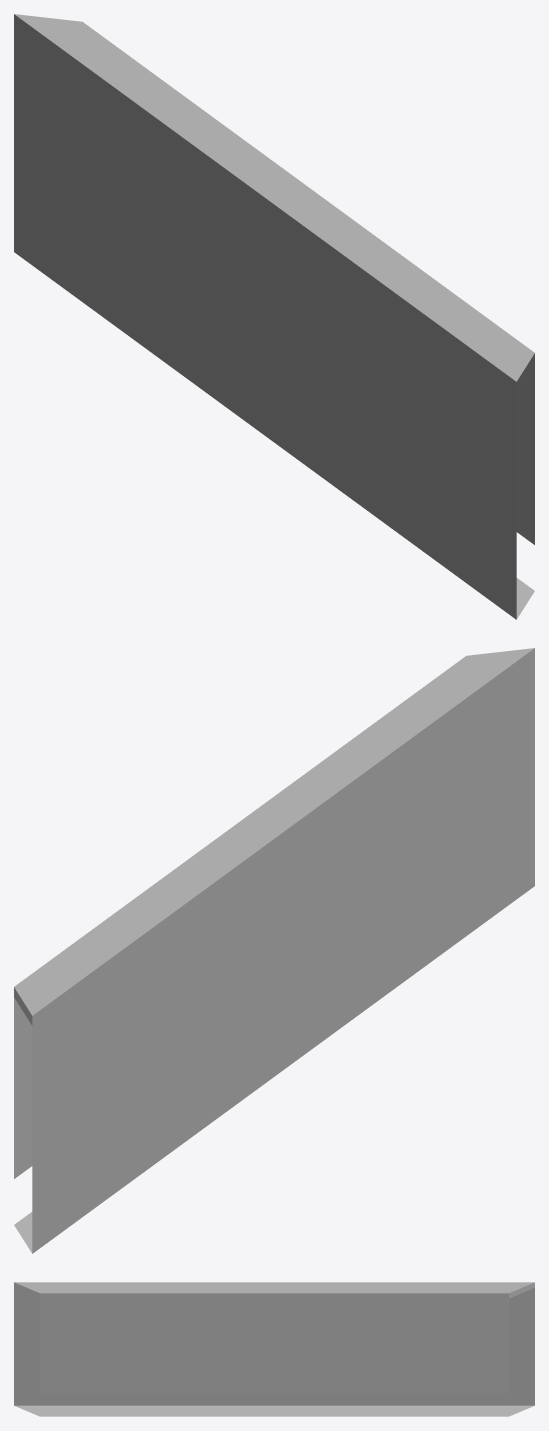
The model's file is basin-minus-x.obj.
3 renders of one model, top to bottom at view 1: azimuth 30°, elevation 25°; view 2: azimuth 150°, elevation 25°; view 3: azimuth 270°, elevation 25°, orthographic. The views are drawn at different scales.
Visible parts, largest first — view 1: #ID396; view 2: #ID396; view 3: #ID396.
Boxes of the visible parts, bbox=[...] form: #ID396: bbox=[14, 14, 534, 619]; #ID396: bbox=[14, 648, 534, 1253]; #ID396: bbox=[14, 1282, 534, 1416].
Size of the model in its own units: 0.0433 by 0.2264 by 0.8664.
